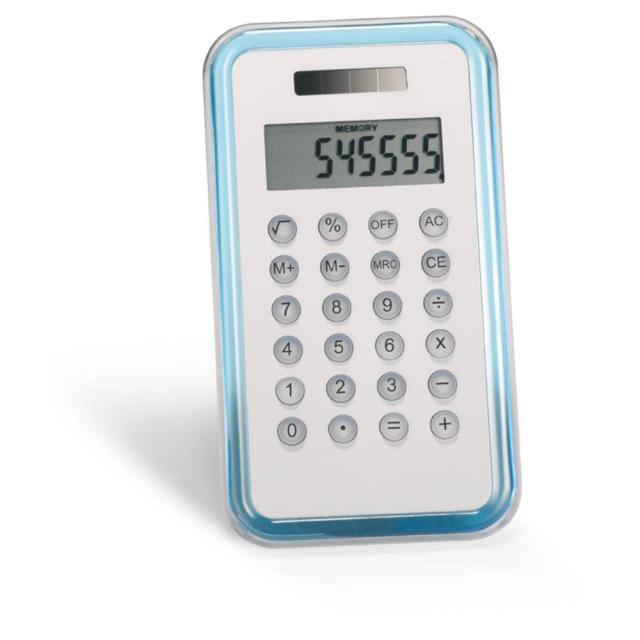Calculator: (126, 0, 582, 607)
